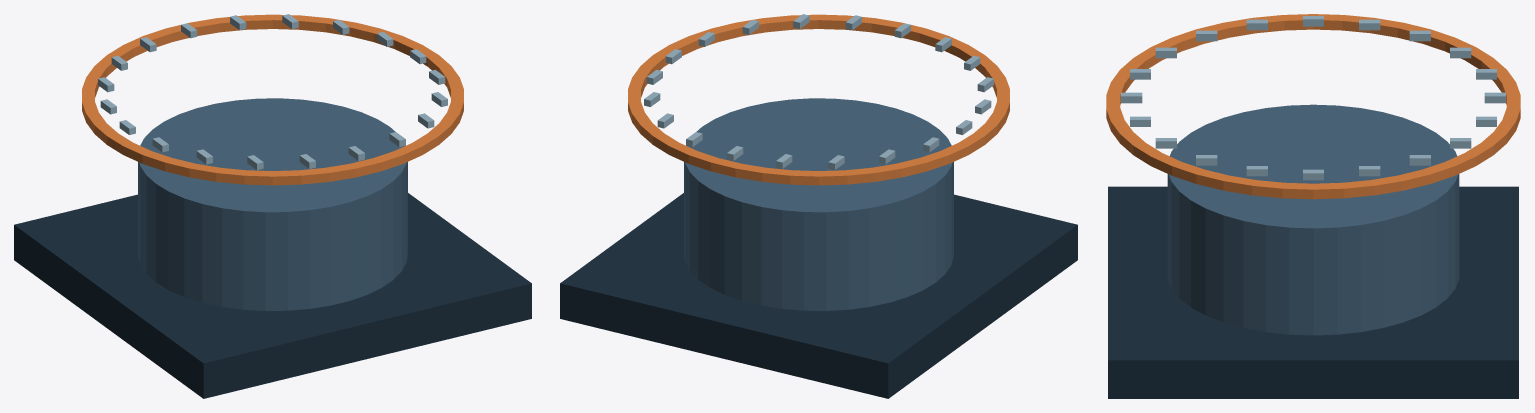
File: 23_L75_WaferTiltRotationStage.fbx
3 renders of one model, left to right at view 1: azimuth 30°, elevation 25°; view 2: azimuth 150°, elevation 25°; view 3: azimuth 270°, elevation 25°, orthographic. The views are drawn at different scales.
Parts seen in each view (by area): view 1: WaferTiltRotationStage_Part_0000, WaferTiltRotationStage_Part_0001, WaferTiltRotationStage_Part_0002; view 2: WaferTiltRotationStage_Part_0000, WaferTiltRotationStage_Part_0001, WaferTiltRotationStage_Part_0002; view 3: WaferTiltRotationStage_Part_0000, WaferTiltRotationStage_Part_0001, WaferTiltRotationStage_Part_0002.
Part boxes in pixels (left/top/right/bottom): WaferTiltRotationStage_Part_0000: left=138, top=98, right=407, bottom=310; WaferTiltRotationStage_Part_0001: left=14, top=193, right=531, bottom=398; WaferTiltRotationStage_Part_0002: left=82, top=14, right=463, bottom=185; WaferTiltRotationStage_Part_0000: left=684, top=98, right=953, bottom=310; WaferTiltRotationStage_Part_0001: left=560, top=193, right=1077, bottom=398; WaferTiltRotationStage_Part_0002: left=628, top=14, right=1009, bottom=185; WaferTiltRotationStage_Part_0000: left=1167, top=104, right=1459, bottom=335; WaferTiltRotationStage_Part_0001: left=1108, top=186, right=1518, bottom=398; WaferTiltRotationStage_Part_0002: left=1106, top=14, right=1520, bottom=199.
Bounding box in the file's own units: 176 × 102 × 176.
